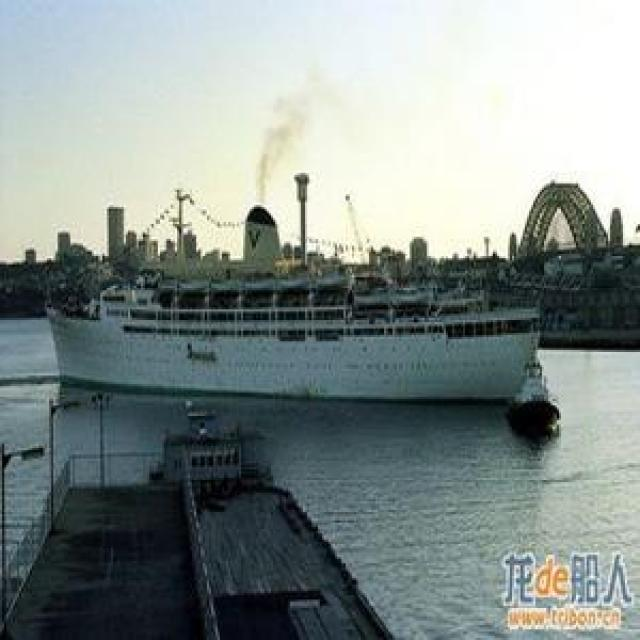passenger ship: (45, 256, 549, 394), (508, 357, 562, 425)
